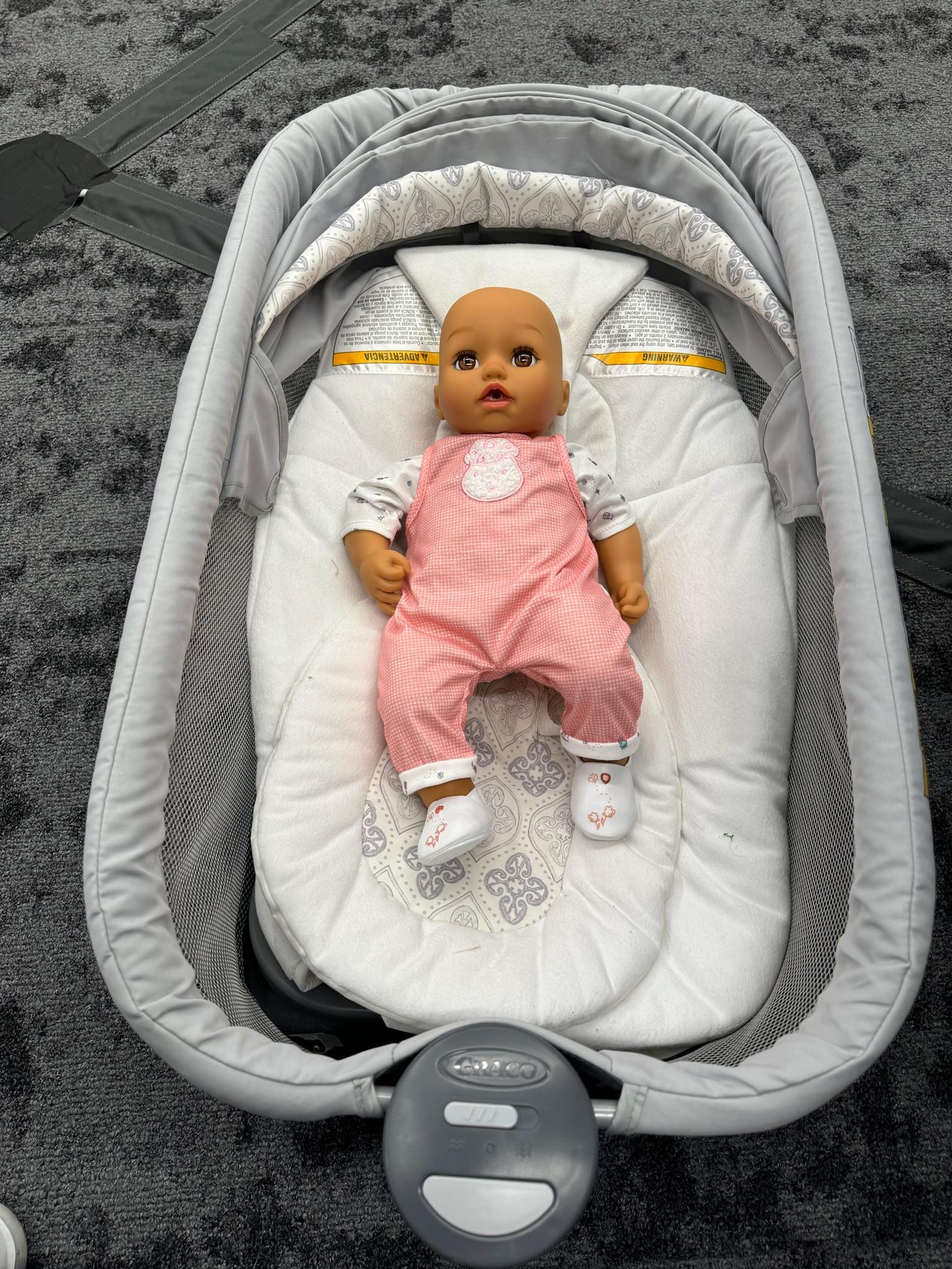baby: (347, 278, 672, 860)
